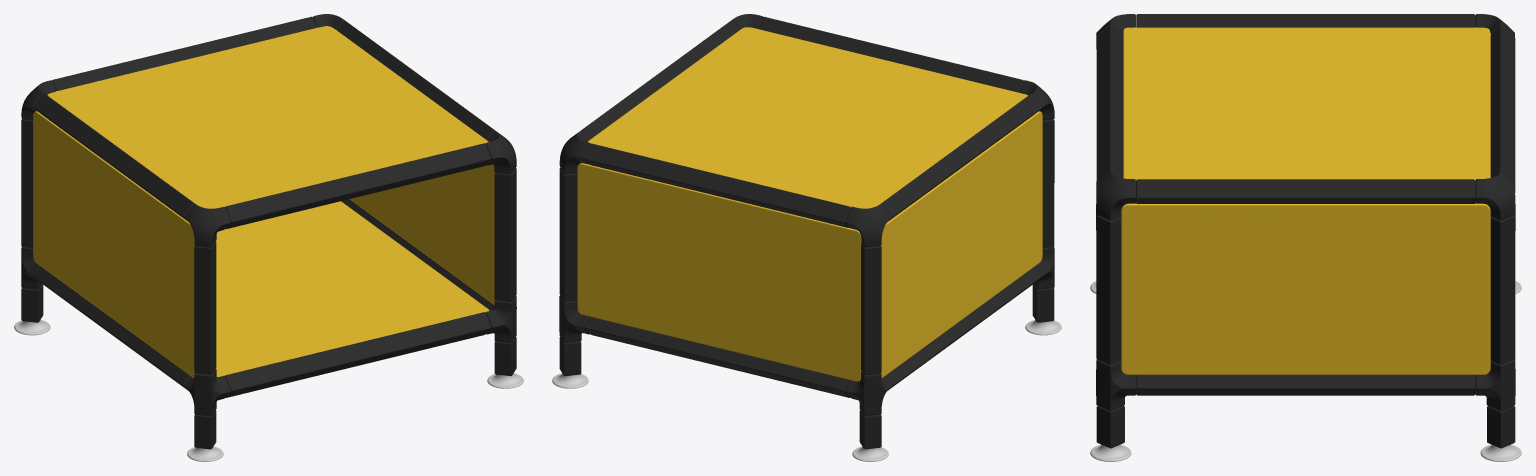
The picture shows the model from 3 angles, left to right: view 1: azimuth 30°, elevation 25°; view 2: azimuth 150°, elevation 25°; view 3: azimuth 270°, elevation 25°; orthographic projection. The views are drawn at different scales.
Visible parts, largest first — view 1: 329x329x154; view 2: 329x329x154; view 3: 329x329x154.
Part boxes in pixels (<box>): 329x329x154: <box>14,14,523,461</box>; 329x329x154: <box>552,14,1061,461</box>; 329x329x154: <box>1090,14,1521,461</box>.
Size of the model in its own units: 0.4189 by 0.2933 by 0.4182.
